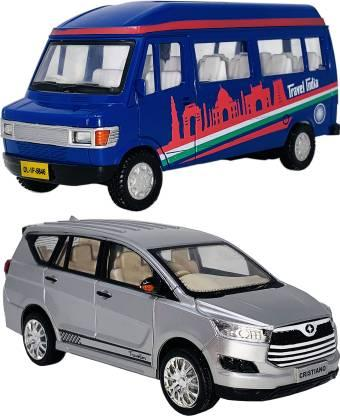car: (1, 220, 340, 416)
van: (1, 1, 340, 212)
